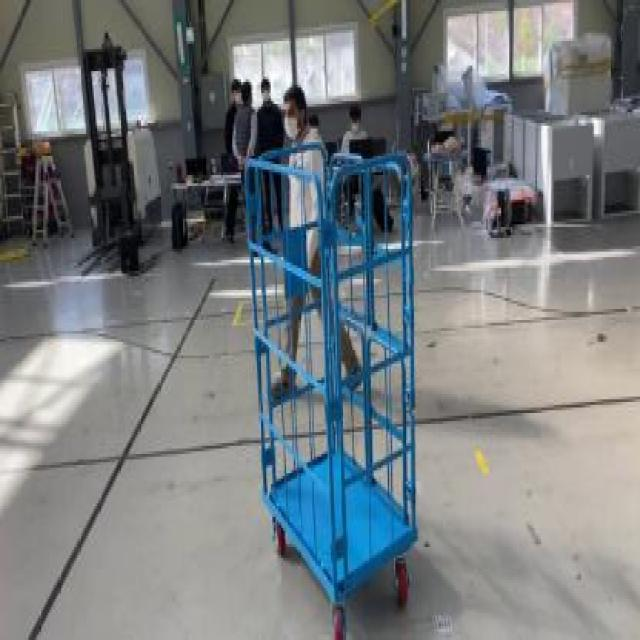cart: (240, 142, 423, 637)
person: (274, 90, 361, 410), (346, 104, 386, 246), (260, 71, 283, 244), (223, 82, 248, 233), (238, 82, 260, 243)
robot: (74, 35, 158, 290)
